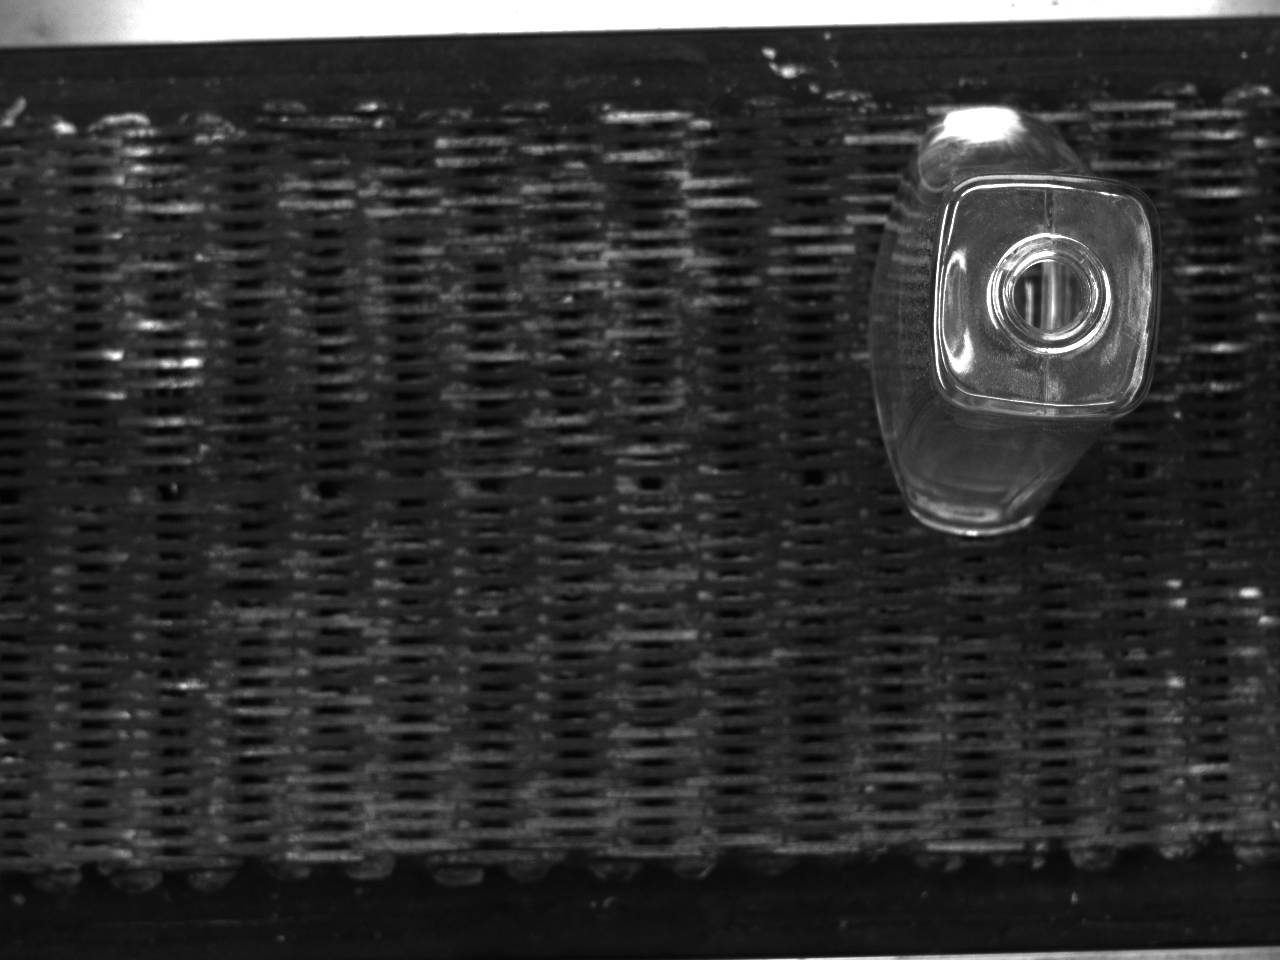bottleneck: (993, 232, 1112, 356)
